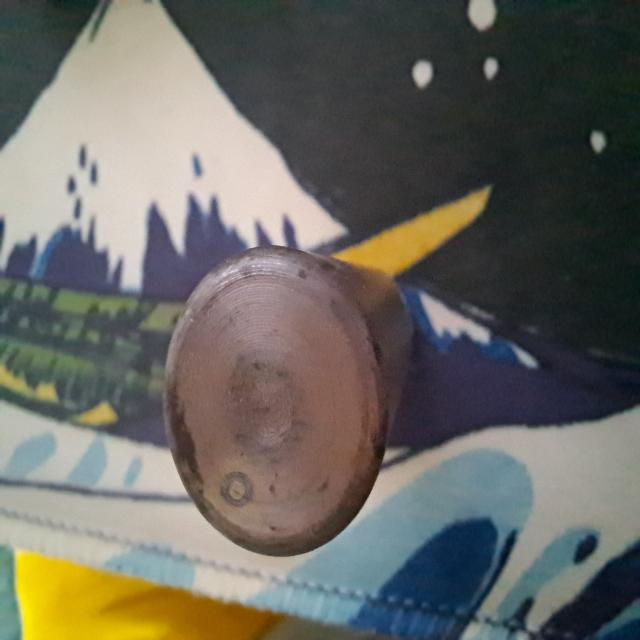defect: (217, 462, 256, 510)
planson: (162, 246, 416, 561)
